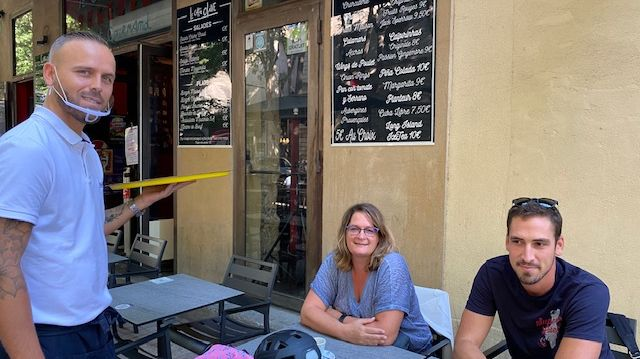without_mask: (504, 225, 568, 288), (61, 55, 119, 114), (344, 218, 382, 259)
